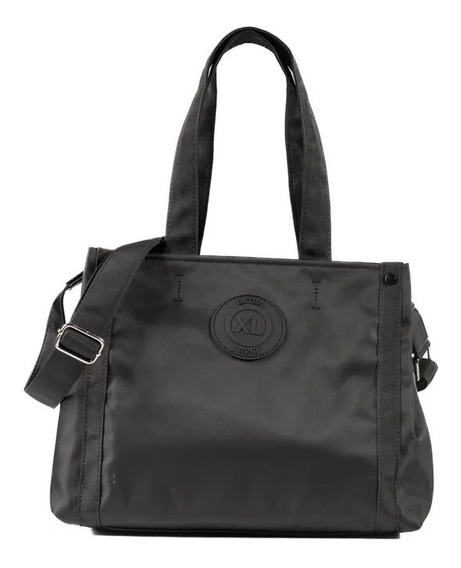cartera: (26, 26, 438, 541)
